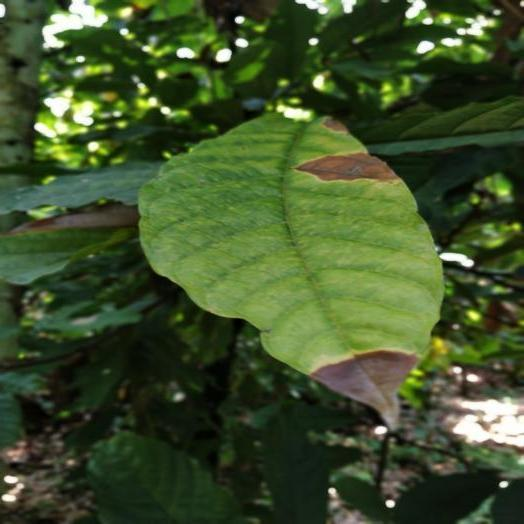Potassium: (140, 114, 443, 422)
